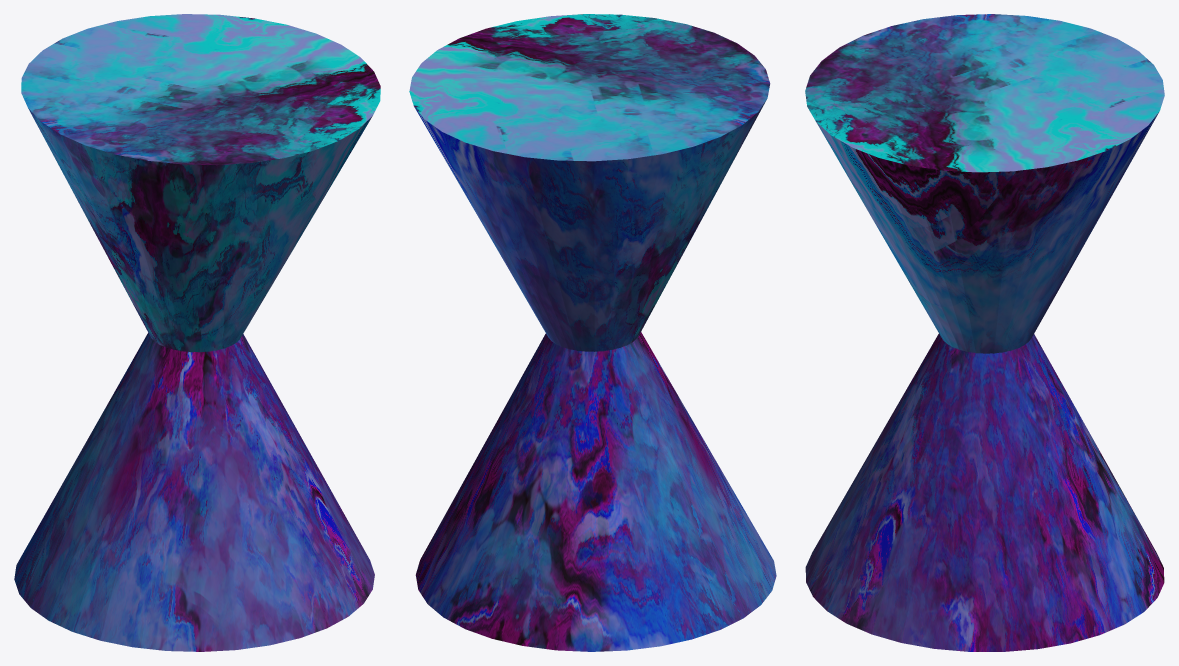
File: coctaildesk.glb
The picture shows the model from 3 angles, left to right: view 1: azimuth 30°, elevation 25°; view 2: azimuth 150°, elevation 25°; view 3: azimuth 270°, elevation 25°; orthographic projection.
Parts seen in each view (by area): view 1: node-0; view 2: node-0; view 3: node-0.
Boxes of the visible parts, <box> form: node-0: <box>14,14,380,651</box>; node-0: <box>409,14,776,651</box>; node-0: <box>805,14,1164,651</box>.
Size of the model in its own units: 0.6072 by 0.8956 by 0.5962.
1 material, 1 textured.
